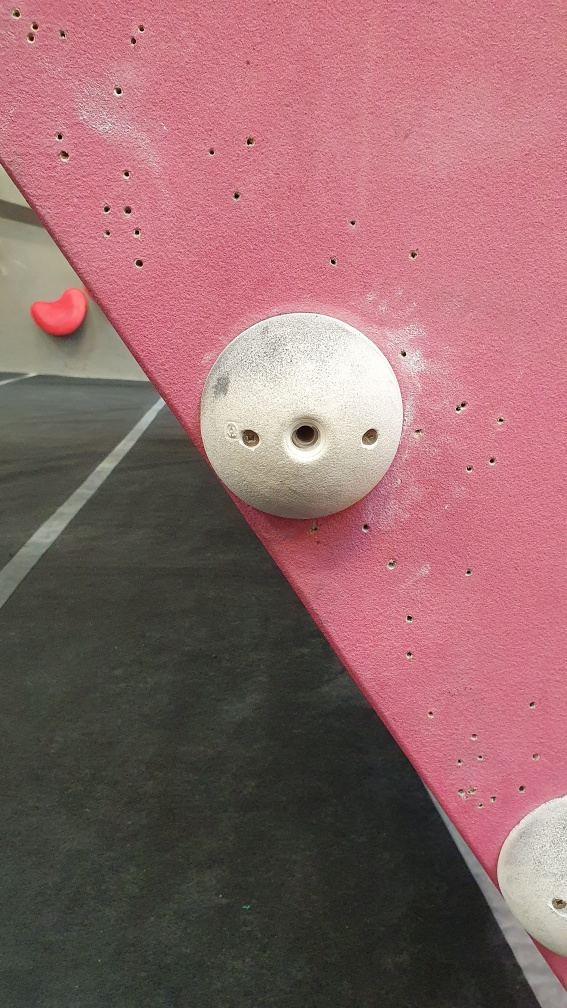Sloper: (194, 304, 411, 527), (495, 790, 567, 954)
